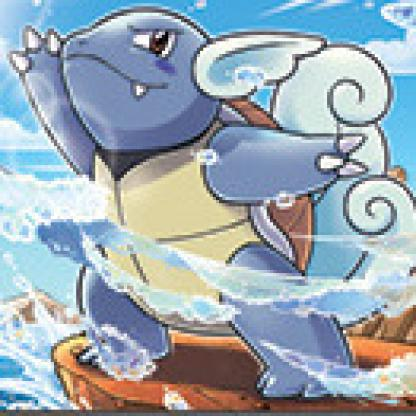Wartortle: (1, 1, 414, 373)
